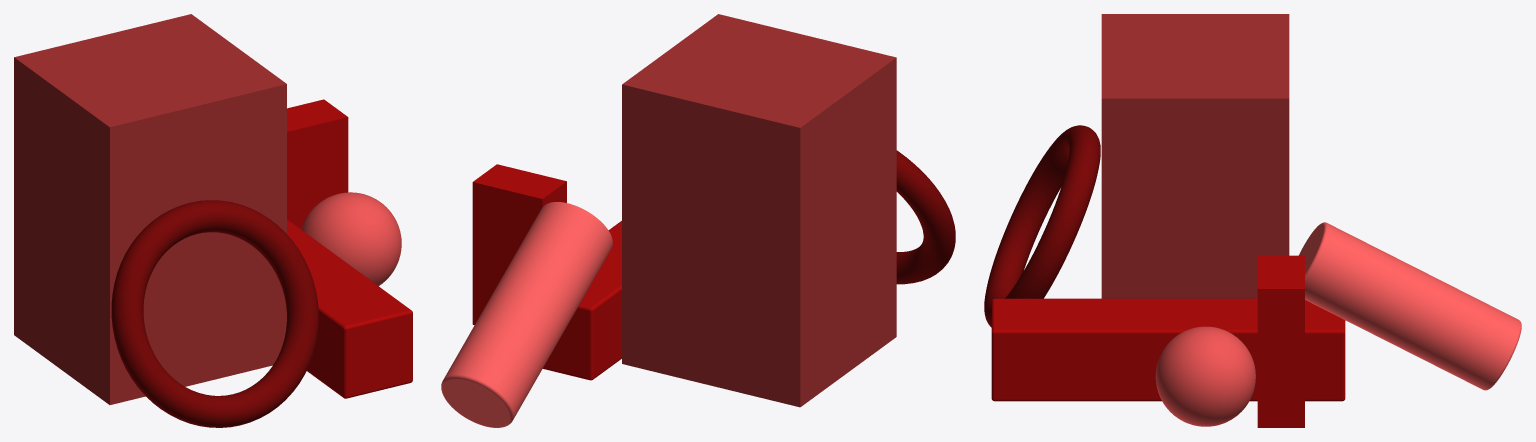
The model's file is redShapes.glb.
3 renders of one model, left to right at view 1: azimuth 30°, elevation 25°; view 2: azimuth 150°, elevation 25°; view 3: azimuth 270°, elevation 25°, orthographic. The views are drawn at different scales.
Parts seen in each view (by area): view 1: Box 2, Torus, Box, Box 1, Sphere; view 2: Box 2, Cylinder, Box 1, Box, Torus; view 3: Box 2, Box, Cylinder, Torus, Box 1, Sphere.
Part boxes in pixels (<box>): Box 2: <box>14,14,286,404</box>; Torus: <box>111,200,318,427</box>; Box: <box>287,219,412,398</box>; Box 1: <box>287,99,348,229</box>; Sphere: <box>301,192,401,286</box>; Box 2: <box>622,14,896,407</box>; Cylinder: <box>441,202,612,427</box>; Box 1: <box>472,164,566,324</box>; Box: <box>542,221,621,380</box>; Torus: <box>896,150,955,284</box>; Box 2: <box>1101,14,1289,298</box>; Box: <box>991,298,1345,401</box>; Cylinder: <box>1299,222,1521,390</box>; Torus: <box>984,125,1100,327</box>; Box 1: <box>1257,255,1304,427</box>; Sphere: <box>1155,326,1255,426</box>.
Size of the model in its own units: 1.5 by 1.1 by 1.97.
